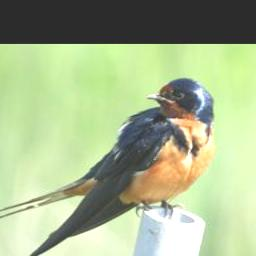Swallow: (0, 74, 217, 256)
